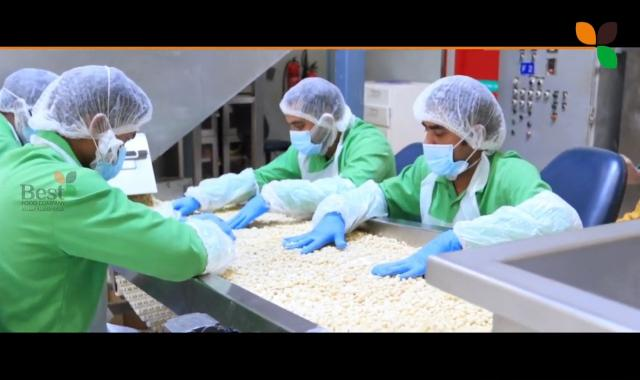hairnet: (48, 71, 157, 147), (418, 75, 508, 151), (280, 75, 352, 137), (2, 67, 56, 118)
